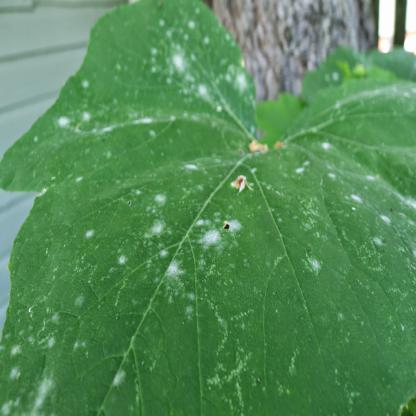squash powdery mildew leaf: (0, 7, 413, 416)
